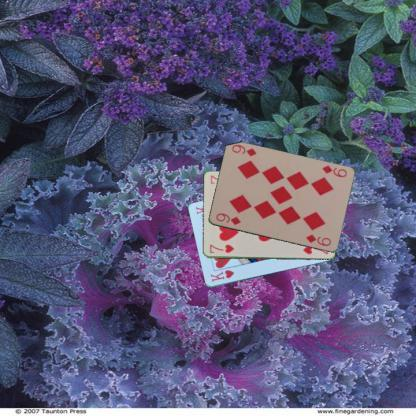7h: (208, 242, 236, 254)
9d: (213, 210, 242, 226), (319, 162, 348, 178)
Kh: (208, 268, 235, 284)
